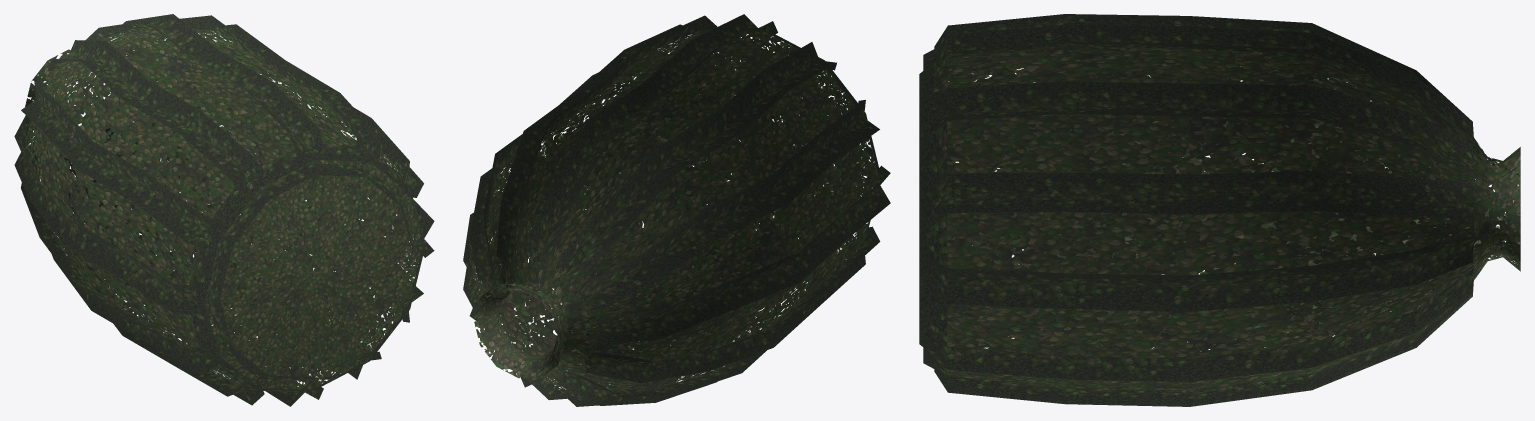
The model's file is nt_2020_foliage_hedge_rounded02_LOD0.obj.
The picture shows the model from 3 angles, left to right: view 1: azimuth 30°, elevation 25°; view 2: azimuth 150°, elevation 25°; view 3: azimuth 270°, elevation 25°; orthographic projection. The views are drawn at different scales.
Visible parts, largest first — view 1: mtl_p6_foliage_hedge2, mtl_p6_foliage_hedge_edge, mtl_p6_foliage_hedge_no_alpha; view 2: mtl_p6_foliage_hedge_edge, mtl_p6_foliage_hedge2, mtl_p6_foliage_hedge_no_alpha; view 3: mtl_p6_foliage_hedge_edge, mtl_p6_foliage_hedge2, mtl_p6_foliage_hedge_no_alpha.
Boxes of the visible parts, x1=… form: mtl_p6_foliage_hedge2: x1=24, y1=29, x2=421, y2=389; mtl_p6_foliage_hedge_edge: x1=14, y1=14, x2=434, y2=406; mtl_p6_foliage_hedge_no_alpha: x1=31, y1=41, x2=408, y2=376; mtl_p6_foliage_hedge_edge: x1=463, y1=14, x2=890, y2=406; mtl_p6_foliage_hedge2: x1=473, y1=29, x2=879, y2=392; mtl_p6_foliage_hedge_no_alpha: x1=478, y1=44, x2=864, y2=382; mtl_p6_foliage_hedge_edge: x1=919, y1=14, x2=1473, y2=406; mtl_p6_foliage_hedge2: x1=947, y1=46, x2=1520, y2=390; mtl_p6_foliage_hedge_no_alpha: x1=947, y1=48, x2=1520, y2=358.
Size of the model in its own units: 127 by 127 by 194.
